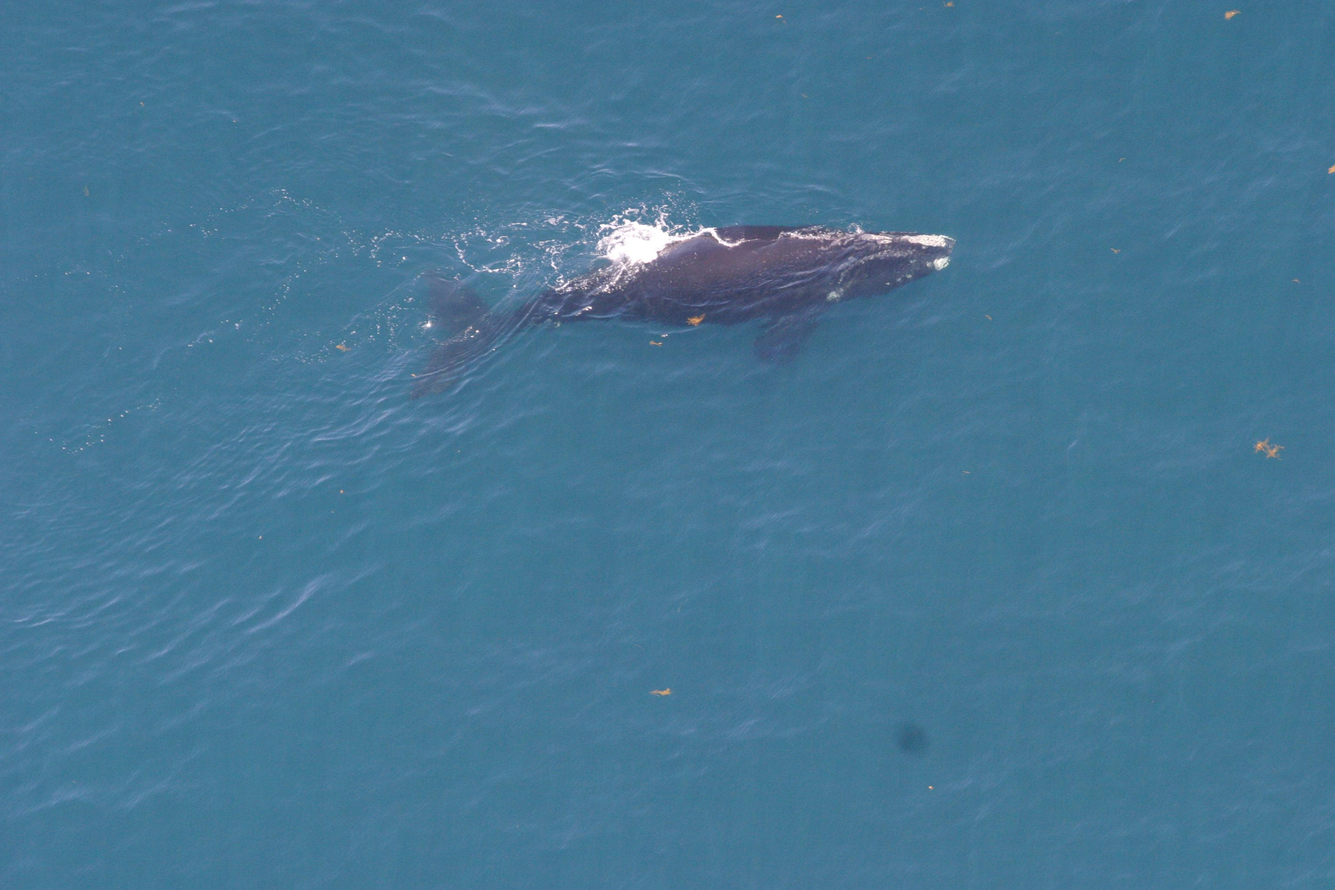whale: (396, 213, 958, 418)
